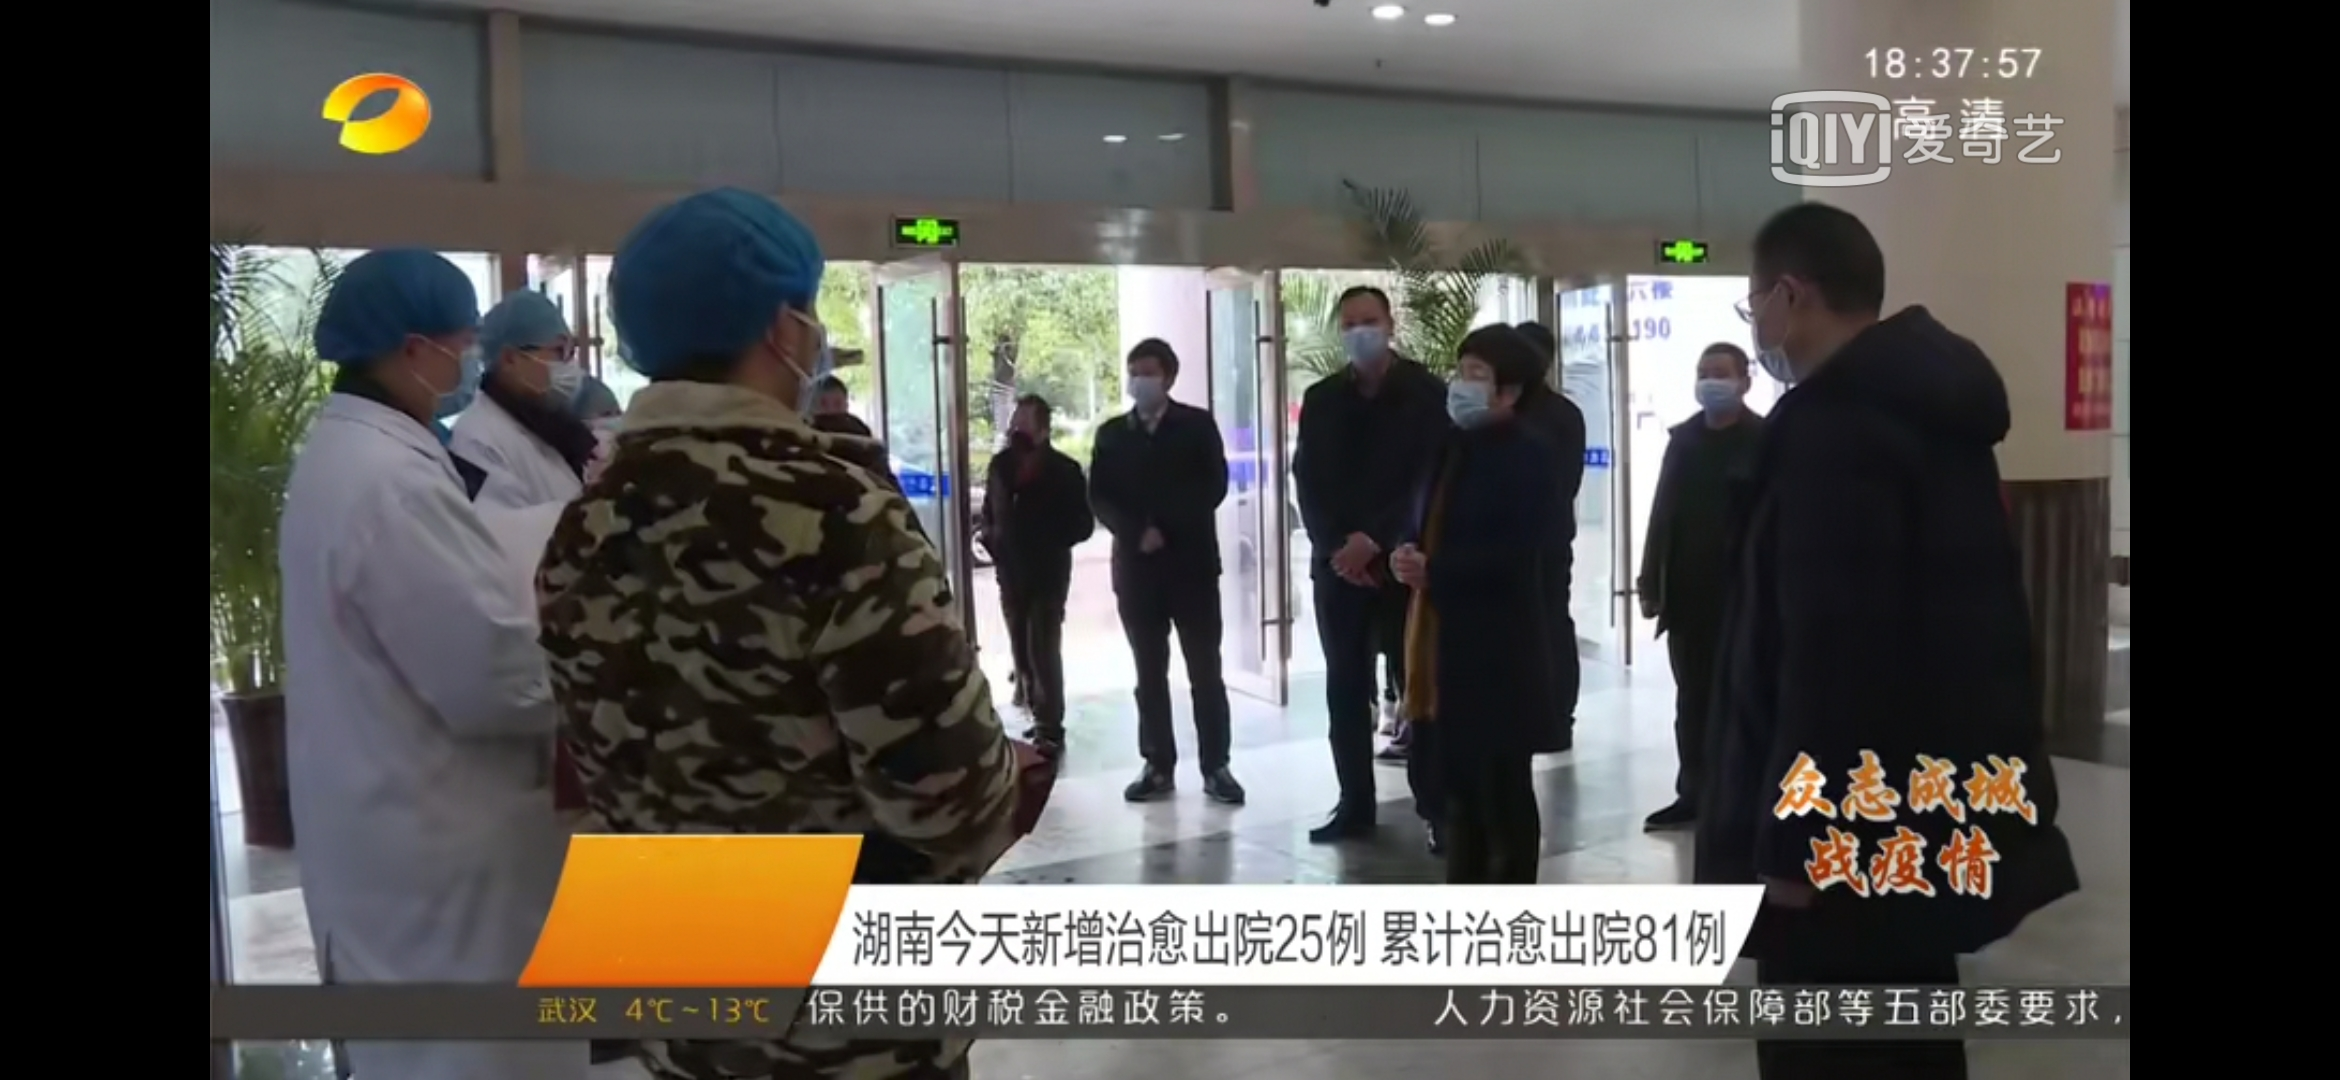correctlyWear: (1736, 263, 1818, 385), (401, 310, 482, 422), (764, 289, 830, 427), (497, 331, 584, 403), (1445, 355, 1521, 428), (1336, 304, 1394, 370), (1691, 357, 1751, 412), (1125, 354, 1169, 409), (1004, 410, 1045, 450)
